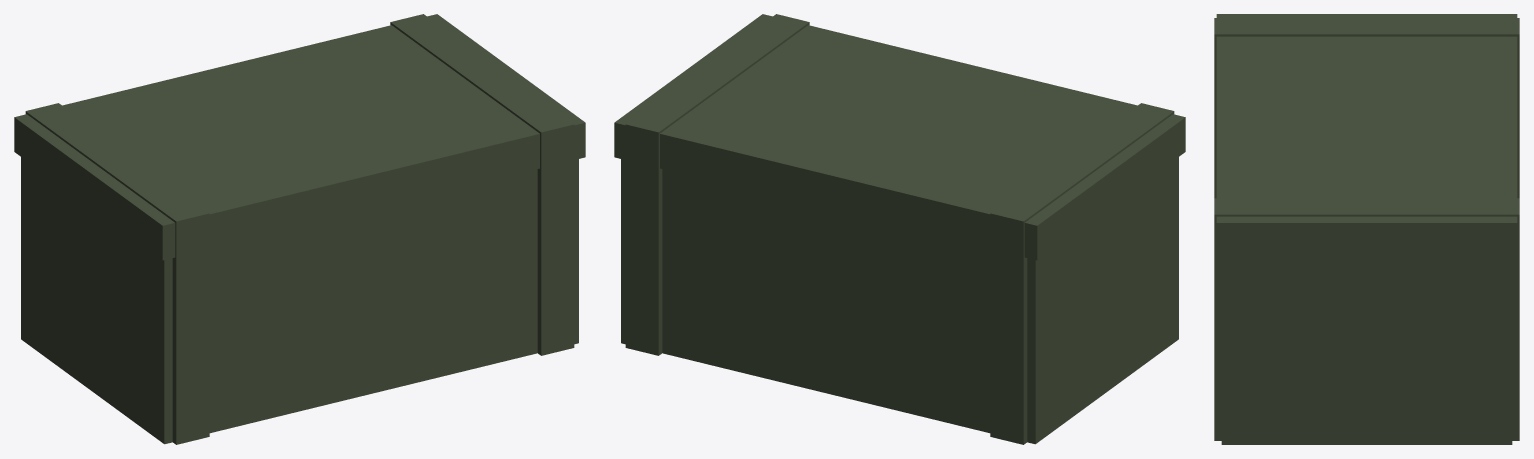
File: SM_crate.glb
The picture shows the model from 3 angles, left to right: view 1: azimuth 30°, elevation 25°; view 2: azimuth 150°, elevation 25°; view 3: azimuth 270°, elevation 25°; orthographic projection.
Parts seen in each view (by area): view 1: SM_crate; view 2: SM_crate; view 3: SM_crate.
Boxes of the visible parts, bbox=[...] form: SM_crate: bbox=[14, 14, 585, 444]; SM_crate: bbox=[614, 14, 1185, 444]; SM_crate: bbox=[1214, 14, 1519, 444].
Bounding box in the file's own units: 1.02 × 0.515 × 0.63.
